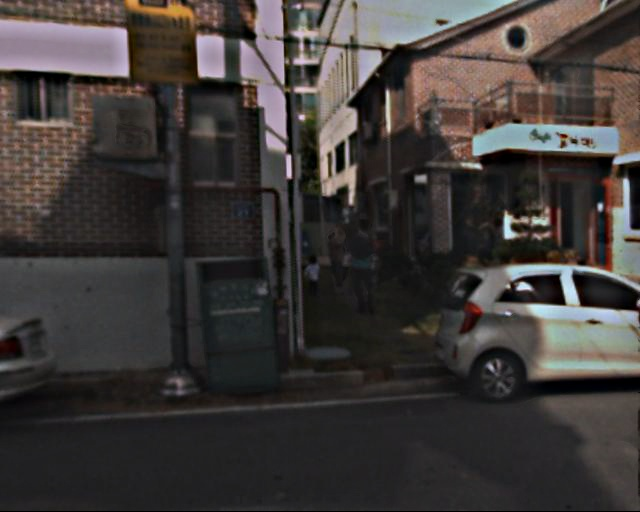person: (345, 219, 384, 315), (322, 223, 354, 294), (303, 254, 321, 299)
